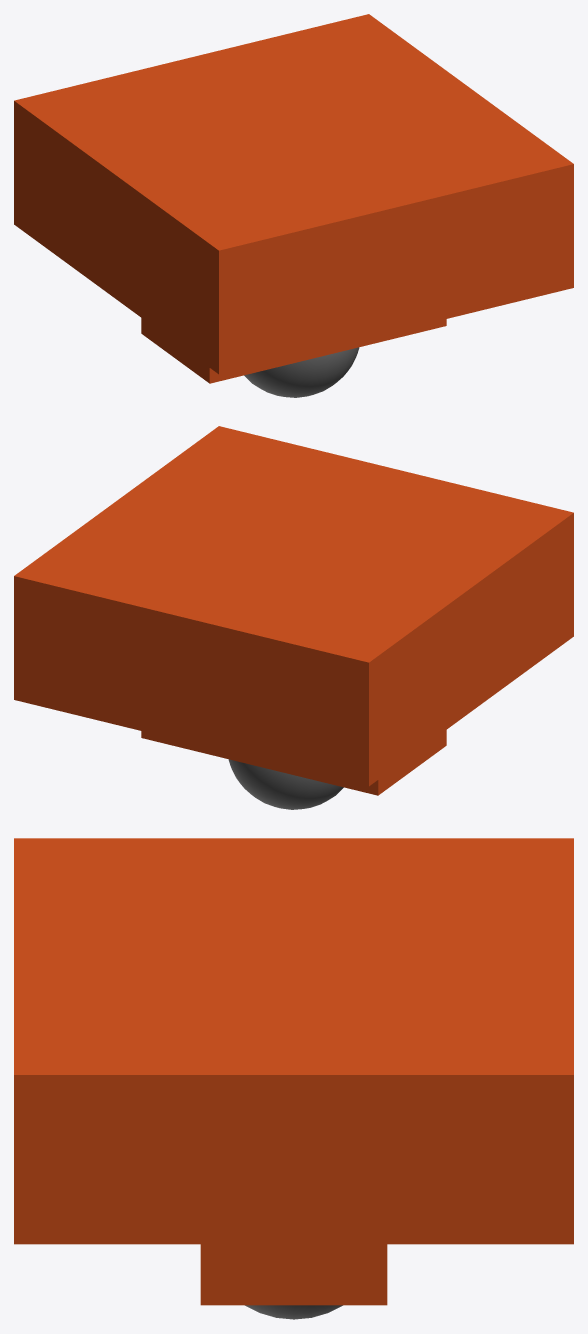
Rendered from Platform.fbx.
3 renders of one model, top to bottom at view 1: azimuth 30°, elevation 25°; view 2: azimuth 150°, elevation 25°; view 3: azimuth 270°, elevation 25°, orthographic. The views are drawn at different scales.
Parts seen in each view (by area): view 1: Platform; view 2: Platform; view 3: Platform.
Boxes of the visible parts, x1=… form: Platform: x1=14, y1=14, x2=573, y2=397; Platform: x1=14, y1=426, x2=573, y2=809; Platform: x1=14, y1=838, x2=573, y2=1319.
Size of the model in its own units: 300 by 209 by 300.
